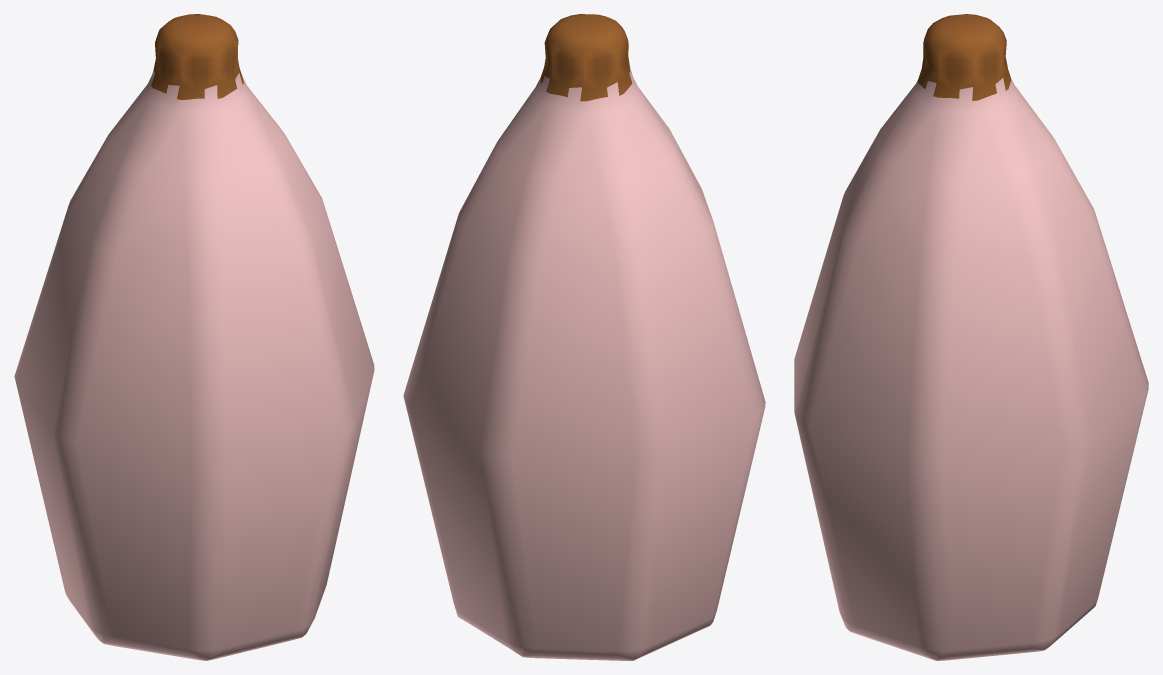
The model's file is Bottle_4.fbx.
The picture shows the model from 3 angles, left to right: view 1: azimuth 30°, elevation 25°; view 2: azimuth 150°, elevation 25°; view 3: azimuth 270°, elevation 25°; orthographic projection.
Parts seen in each view (by area): view 1: Bottle_4.001; view 2: Bottle_4.001; view 3: Bottle_4.001.
Part boxes in pixels (<box>): Bottle_4.001: <box>14,14,374,660</box>; Bottle_4.001: <box>403,14,765,660</box>; Bottle_4.001: <box>794,14,1148,660</box>.
Size of the model in its own units: 13.2 by 23.69 by 12.94.
